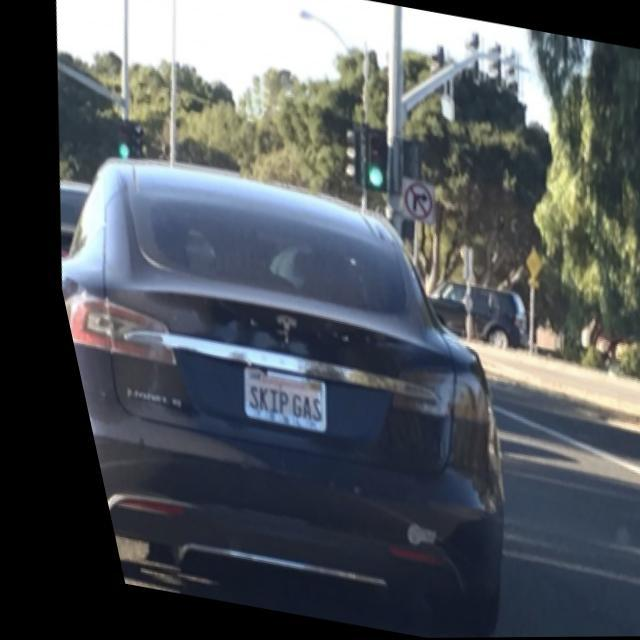license_plate: (215, 364, 318, 429)
